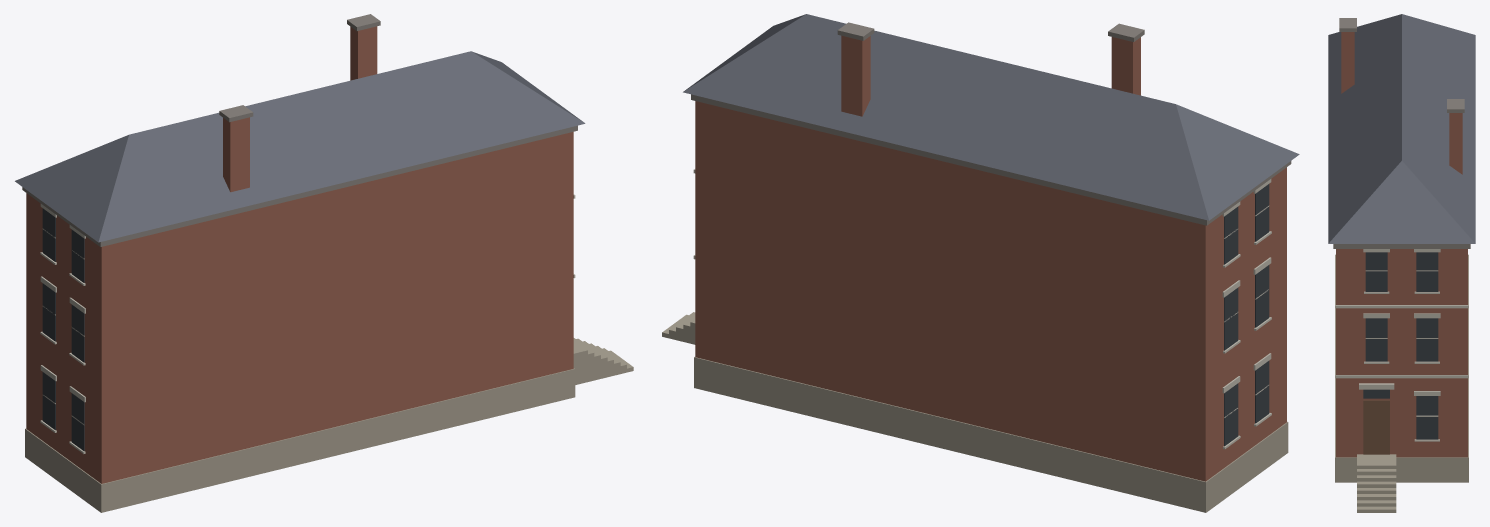
Rendered from house_2027_indiana__draft_1904.glb.
3 renders of one model, left to right at view 1: azimuth 30°, elevation 25°; view 2: azimuth 150°, elevation 25°; view 3: azimuth 270°, elevation 25°, orthographic. The views are drawn at different scales.
Visible parts, largest first — view 1: house_2027_indiana__draft_1904; view 2: house_2027_indiana__draft_1904; view 3: house_2027_indiana__draft_1904.
Part boxes in pixels (<box>): house_2027_indiana__draft_1904: <box>15,14,633,512</box>; house_2027_indiana__draft_1904: <box>662,14,1299,512</box>; house_2027_indiana__draft_1904: <box>1328,14,1475,512</box>.
Size of the model in its own units: 25.4 by 15.9 by 6.7.
